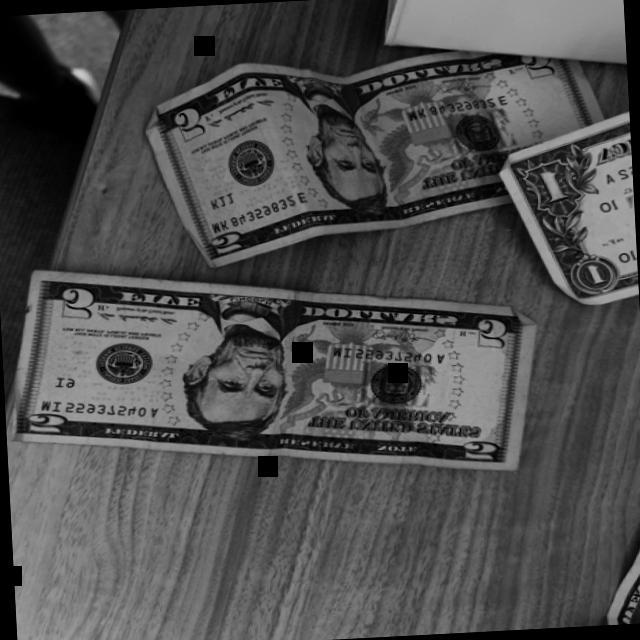five: (7, 269, 534, 471), (143, 51, 605, 268)
one: (499, 113, 639, 306)
twenty: (606, 548, 640, 625)
